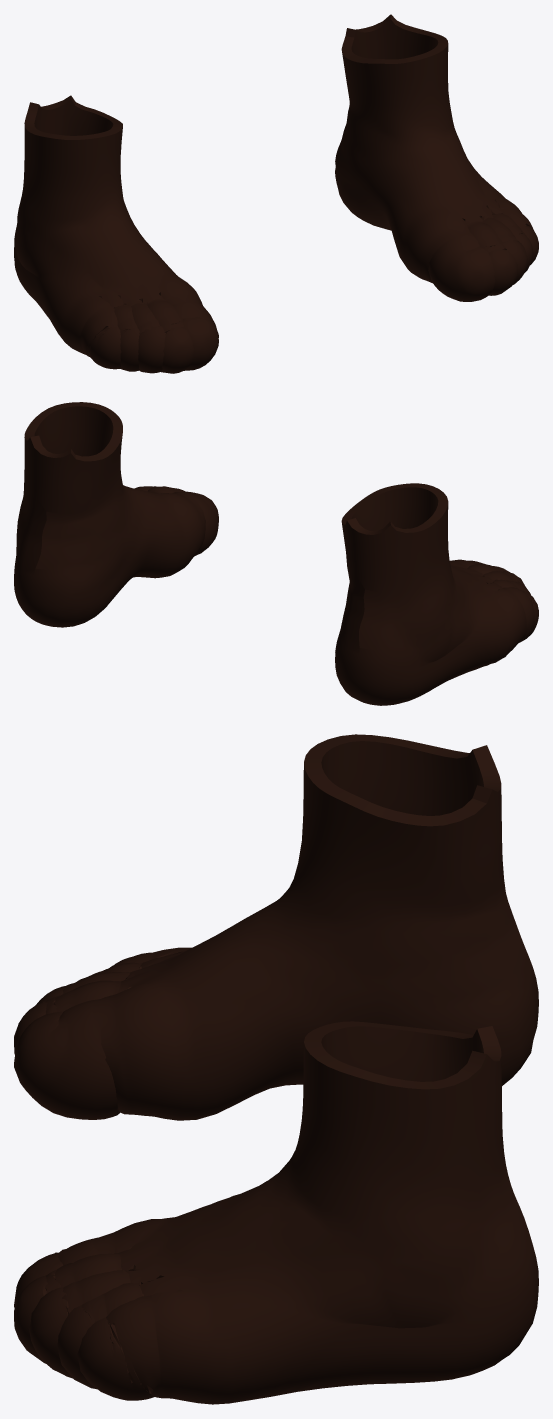
The model's file is arm_human_feet_blackened_boots_t1_m.glb.
3 views of the same model, one above another, from view 1: azimuth 30°, elevation 25°; view 2: azimuth 150°, elevation 25°; view 3: azimuth 270°, elevation 25° (orthographic). The views are drawn at different scales.
Parts seen in each view (by area): view 1: armor_fitted_boot_-1, armor_fitted_boot_1; view 2: armor_fitted_boot_-1, armor_fitted_boot_1; view 3: armor_fitted_boot_1, armor_fitted_boot_-1.
Boxes of the visible parts, bbox=[...] form: armor_fitted_boot_-1: bbox=[14, 95, 218, 373]; armor_fitted_boot_1: bbox=[335, 14, 538, 301]; armor_fitted_boot_-1: bbox=[335, 483, 538, 705]; armor_fitted_boot_1: bbox=[14, 402, 218, 627]; armor_fitted_boot_1: bbox=[14, 1021, 538, 1404]; armor_fitted_boot_-1: bbox=[14, 734, 538, 1120].
Size of the model in its own units: 0.524 by 0.2112 by 0.3002.
